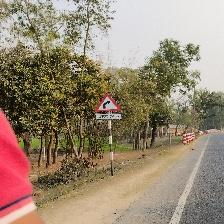Right-turn: (94, 93, 123, 121)
